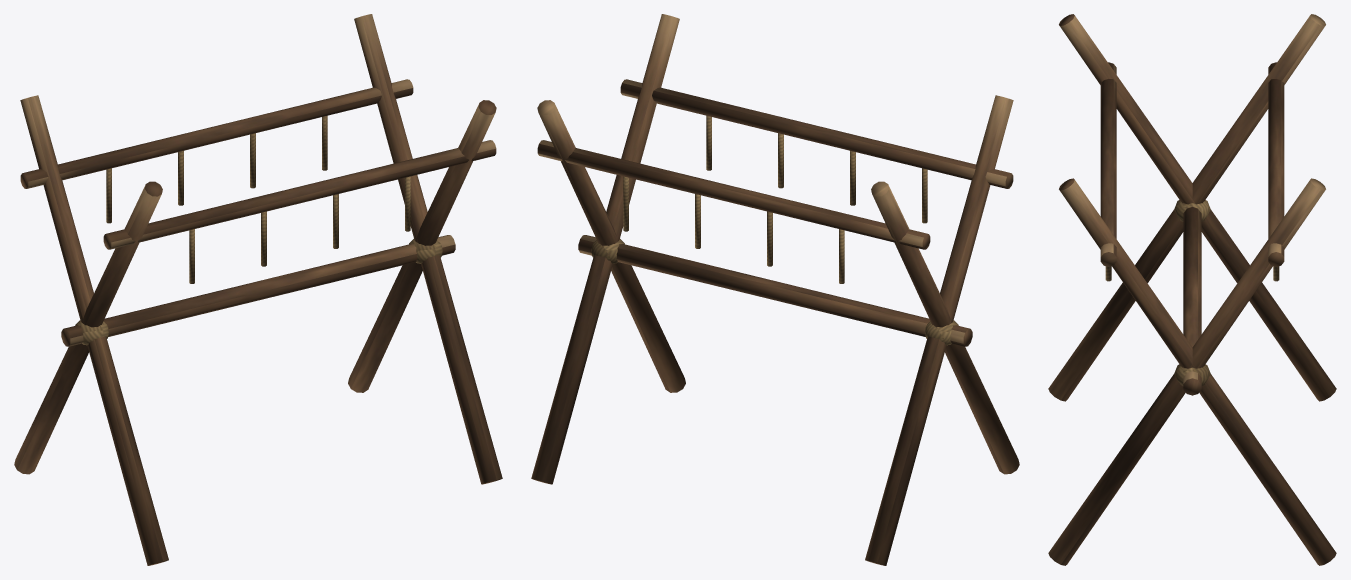
Rendered from drying_rack.glb.
3 views of the same model, side by side, from view 1: azimuth 30°, elevation 25°; view 2: azimuth 150°, elevation 25°; view 3: azimuth 270°, elevation 25° (orthographic).
Visible parts, largest first — view 1: Drying_Rack; view 2: Drying_Rack; view 3: Drying_Rack.
Part boxes in pixels (bbox=[...]): Drying_Rack: bbox=[14, 14, 502, 565]; Drying_Rack: bbox=[531, 14, 1019, 565]; Drying_Rack: bbox=[1048, 14, 1336, 565].
Size of what is drawn, in the model's own units: 1.5 by 1.42 by 0.9643.
Materials: 2 (2 with a texture image).
